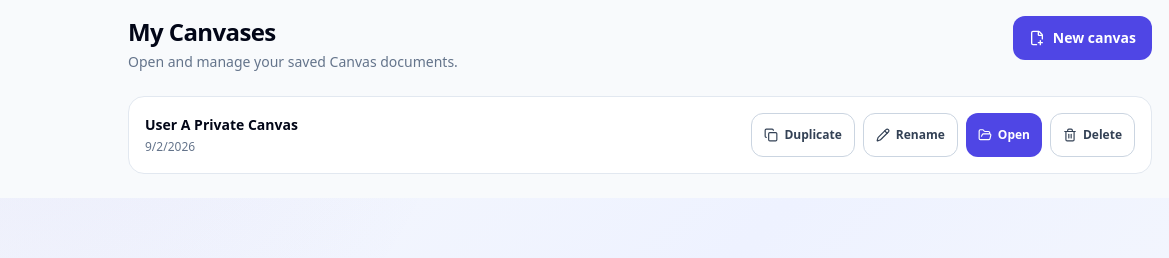
Test: CreatorCanvasLibraryPageContent › fences a delayed User A duplicate when the authenticated owner changes to User B
Click the button "Duplicate" at [803, 135], box [751, 113, 855, 157]
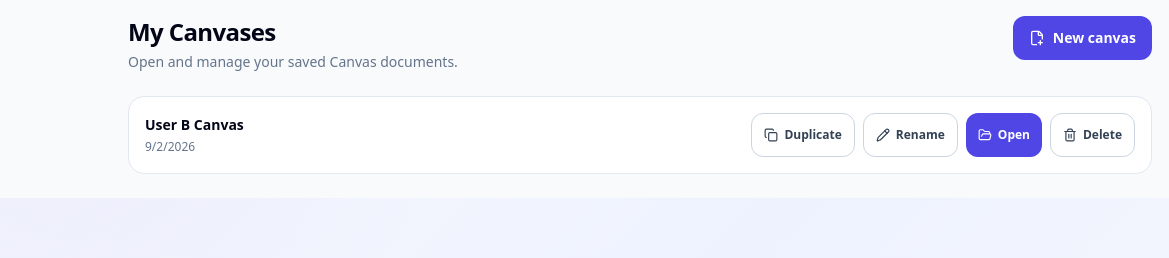
expect the text "User A Private Canvas" is gone: met
expect the text "User B Canvas" is shown: met, box [145, 115, 244, 134]
